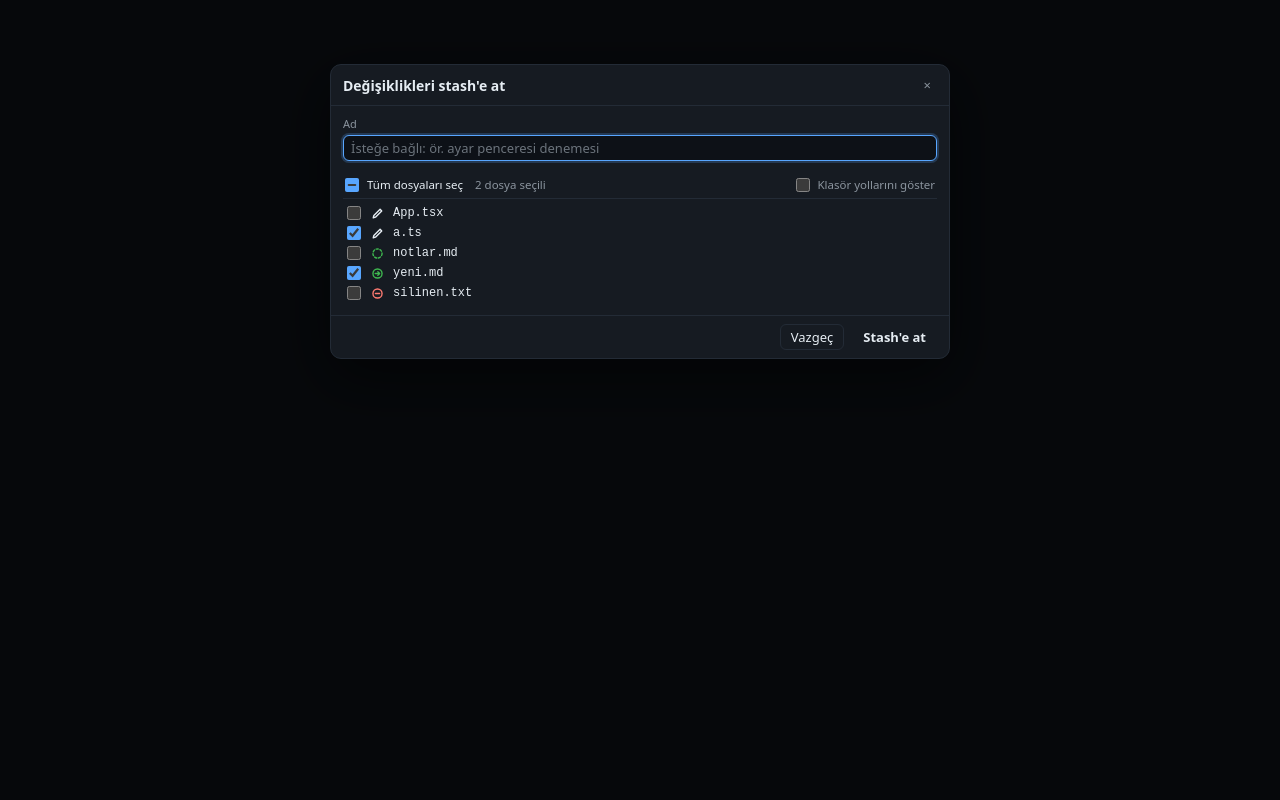
Test: stash'e atma › takipsiz dosya seçiliyken kullanıcıya sorulmadan bilgi veriliyor
Click the checkbox labelled "notlar.md" at (354, 253), box x1=347 y1=246 x2=361 y2=260
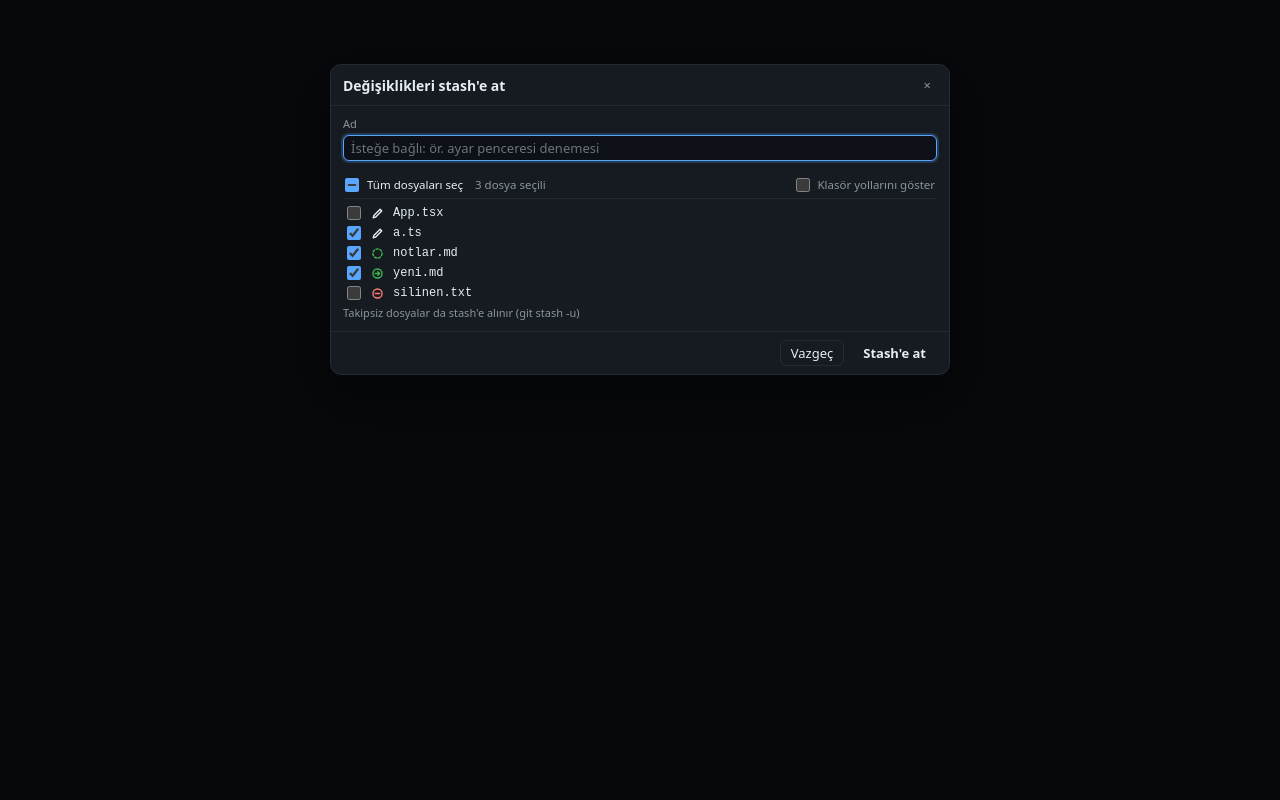
Result: the text with class "hintline" reads "Takipsiz dosyalar da stash'e alınır (git stash -u)" at x1=343 y1=305 x2=580 y2=320
